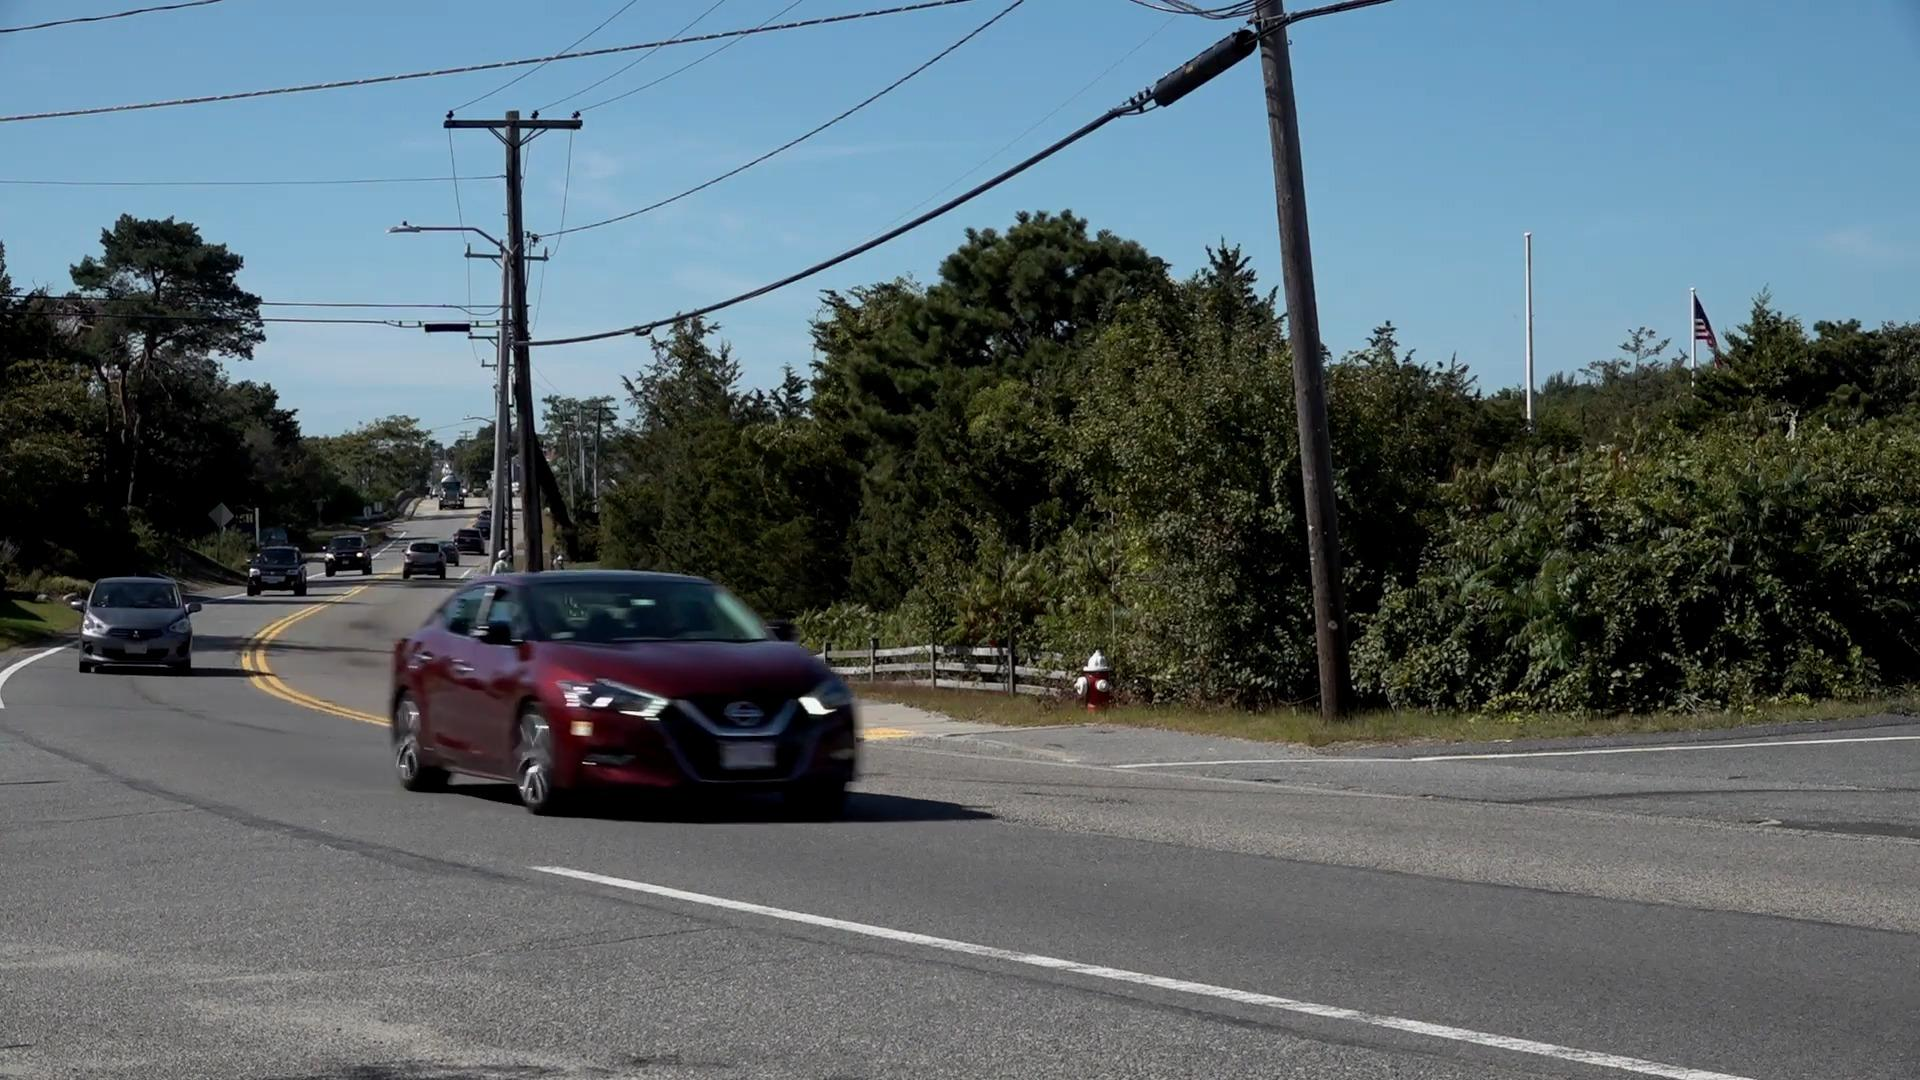sedans: (388, 565, 863, 827), (75, 575, 194, 670)
